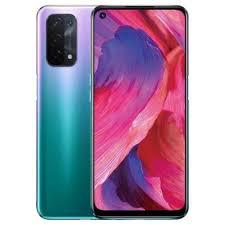Smartphone: (90, 5, 187, 217), (39, 6, 94, 222)
